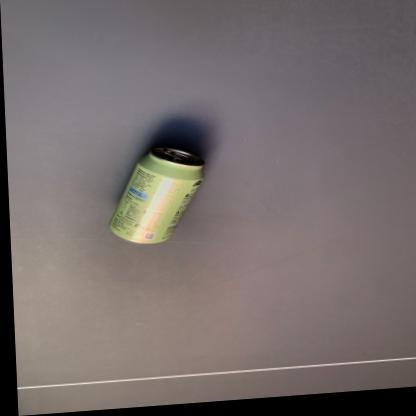trash: (110, 146, 203, 243)
